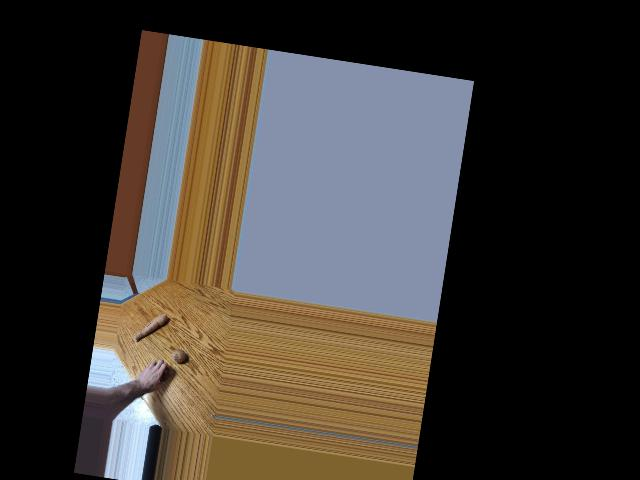onion: (152, 365, 169, 383)
